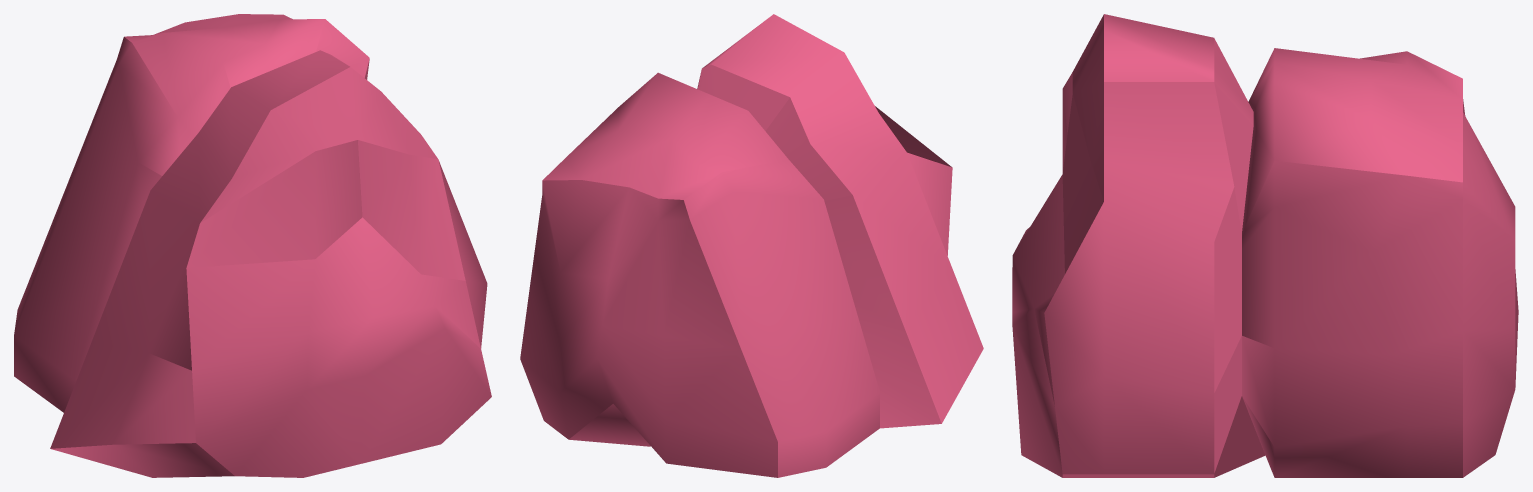
The model's file is Rock_1.fbx.
The picture shows the model from 3 angles, left to right: view 1: azimuth 30°, elevation 25°; view 2: azimuth 150°, elevation 25°; view 3: azimuth 270°, elevation 25°; orthographic projection. The views are drawn at different scales.
Visible parts, largest first — view 1: Rock_1_low; view 2: Rock_1_low; view 3: Rock_1_low.
Part boxes in pixels (x1,y1,x2,y2): Rock_1_low: [14, 14, 491, 477]; Rock_1_low: [520, 14, 983, 477]; Rock_1_low: [1012, 14, 1518, 477].
Size of the model in its own units: 0.7736 by 0.7017 by 0.8119.
